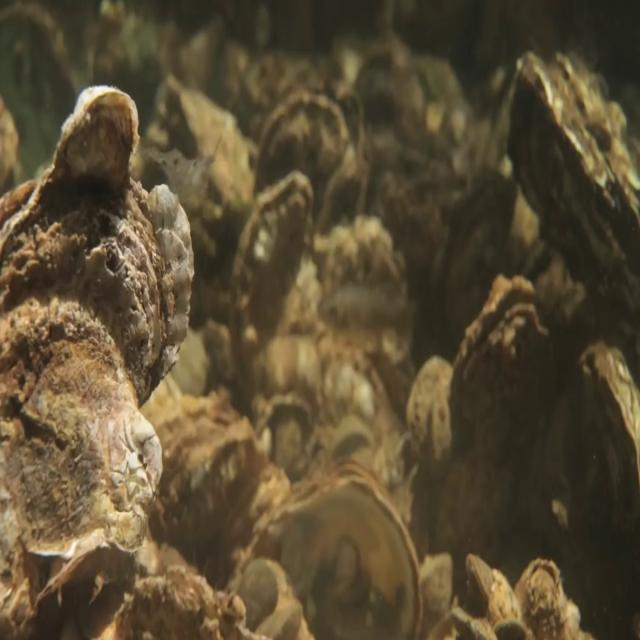Oyster-Closed: (1, 58, 201, 405), (496, 29, 637, 315), (227, 149, 321, 378), (567, 312, 640, 570), (163, 407, 278, 550), (112, 553, 250, 628), (464, 551, 522, 628)
Oyster-Indeterminate: (0, 309, 171, 624), (253, 446, 432, 638), (249, 72, 358, 207)
Oyster-Open: (440, 258, 558, 461), (514, 553, 568, 639)
